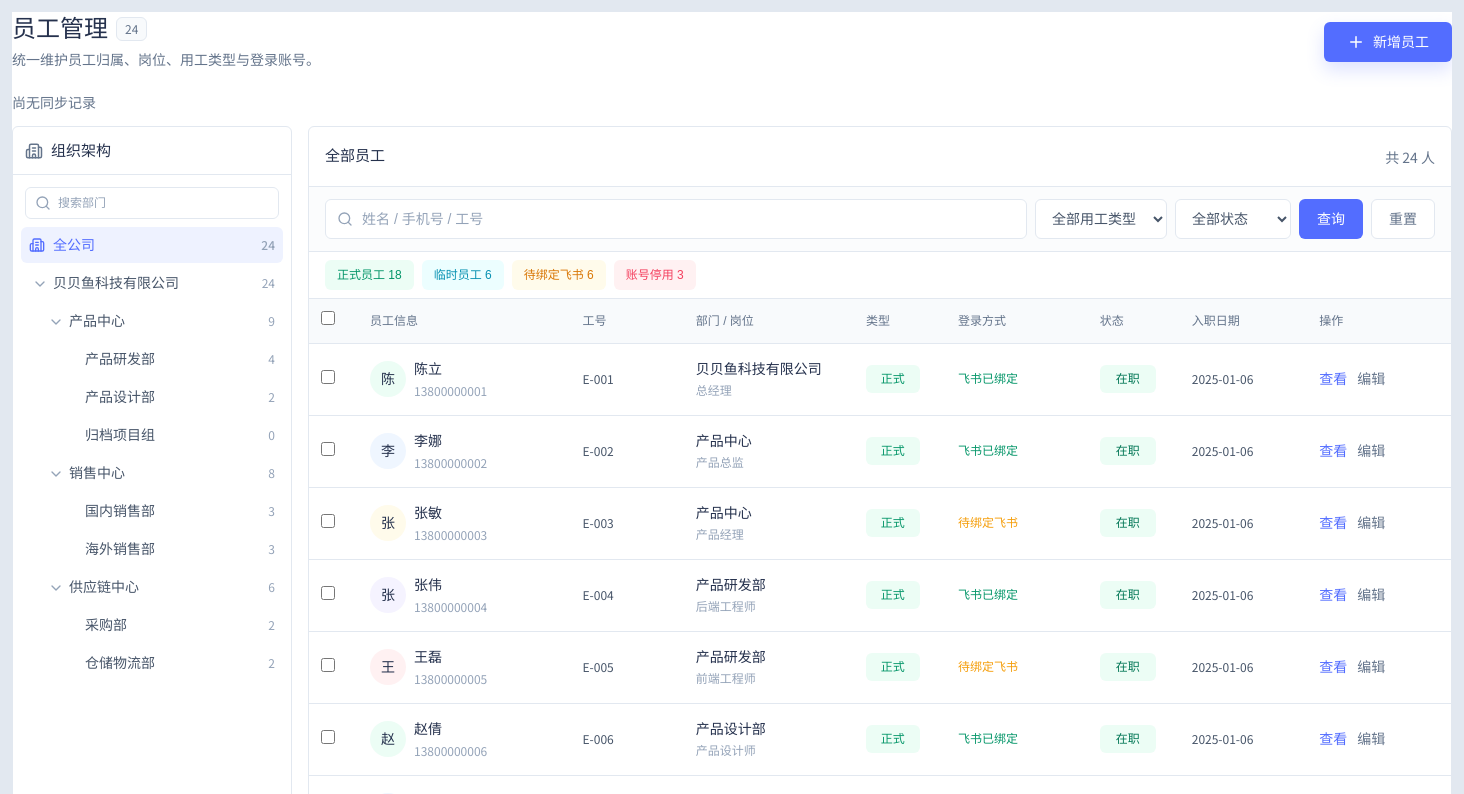
Test: EmployeeManagementView › loads summary cards and filters by the selected department subtree
expect the text with test id "formal-employee-count" reads "正式员工 18": met, box [325,260,414,290]
expect the text with test id "temporary-employee-count" reads "临时员工 6": met, box [422,260,504,290]
What coordinates should you click on to do the following:
click the button with test id "department-node-2"
I would click on:
 (97, 321)
Its box is [21,303,283,339].
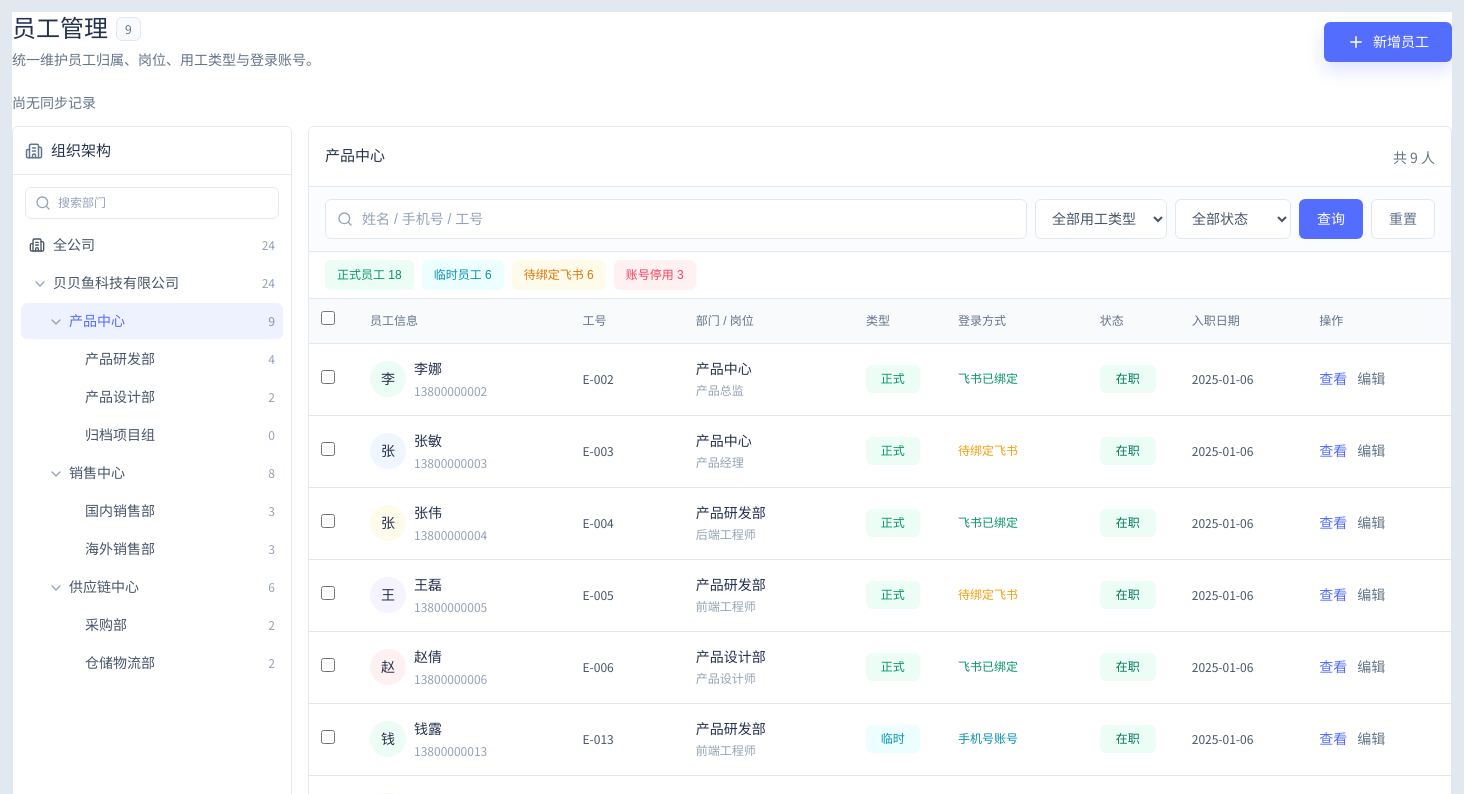
expect the heading with test id "employee-list-title" reads "产品中心": met, box [325,147,385,164]
